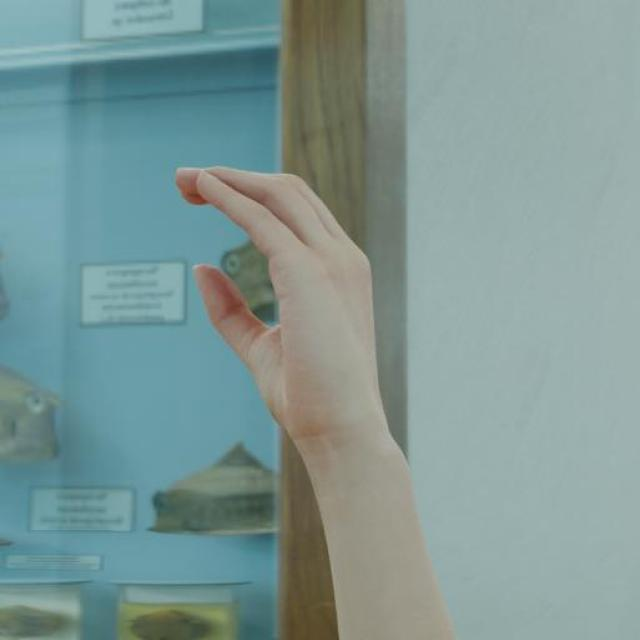C: (170, 163, 409, 457)
